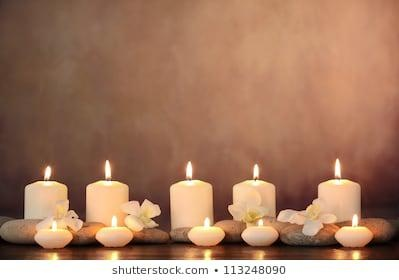fire: (330, 154, 344, 179), (39, 162, 53, 185), (100, 157, 112, 183), (249, 159, 262, 181), (183, 157, 195, 179), (349, 211, 359, 228), (201, 215, 212, 230), (108, 211, 118, 227), (47, 218, 57, 231)
